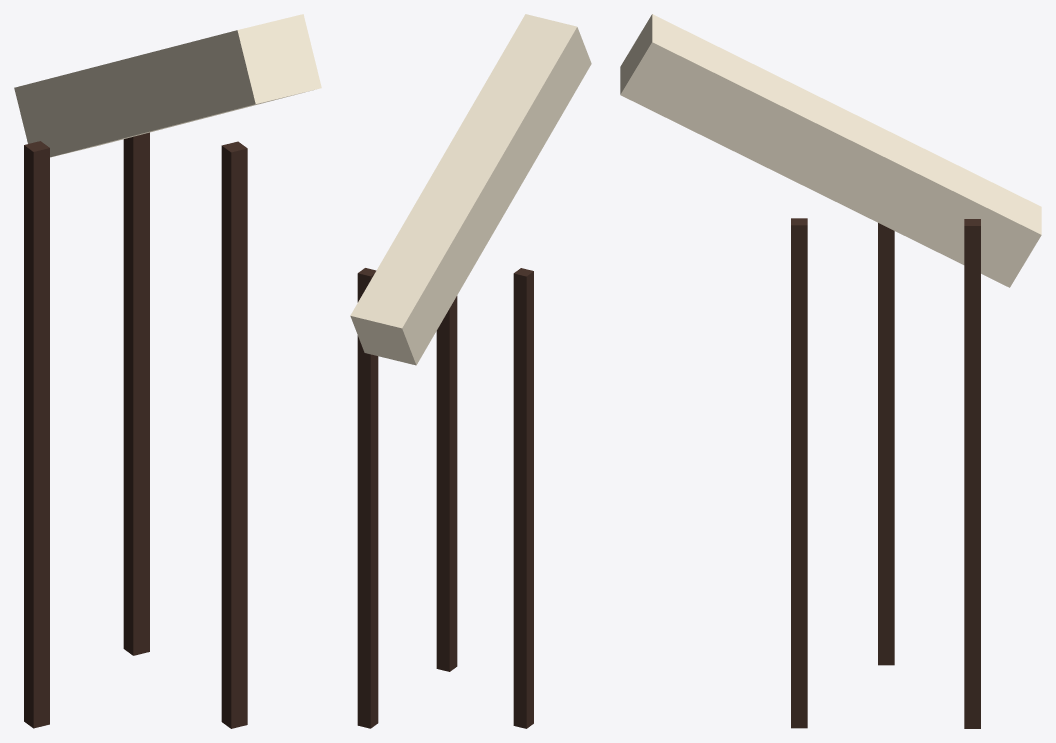
File: telescope.glb
The picture shows the model from 3 angles, left to right: view 1: azimuth 30°, elevation 25°; view 2: azimuth 150°, elevation 25°; view 3: azimuth 270°, elevation 25°; orthographic projection. The views are drawn at different scales.
Parts seen in each view (by area): view 1: Box4, Box3, Box1, Box2; view 2: Box4, Box1, Box2, Box3; view 3: Box4, Box3, Box2, Box1.
Part boxes in pixels (x1=…): Box4: x1=14, y1=14, x2=321, y2=157; Box3: x1=221, y1=141, x2=247, y2=728; Box1: x1=24, y1=141, x2=49, y2=728; Box2: x1=123, y1=132, x2=149, y2=655; Box4: x1=350, y1=14, x2=591, y2=365; Box1: x1=513, y1=268, x2=533, y2=728; Box2: x1=357, y1=268, x2=378, y2=728; Box3: x1=436, y1=296, x2=457, y2=671; Box4: x1=620, y1=14, x2=1041, y2=287; Box3: x1=791, y1=218, x2=807, y2=728; Box2: x1=964, y1=219, x2=980, y2=728; Box1: x1=878, y1=223, x2=894, y2=665.
Size of the model in its own units: 0.3009 by 1.34 by 0.7596.
